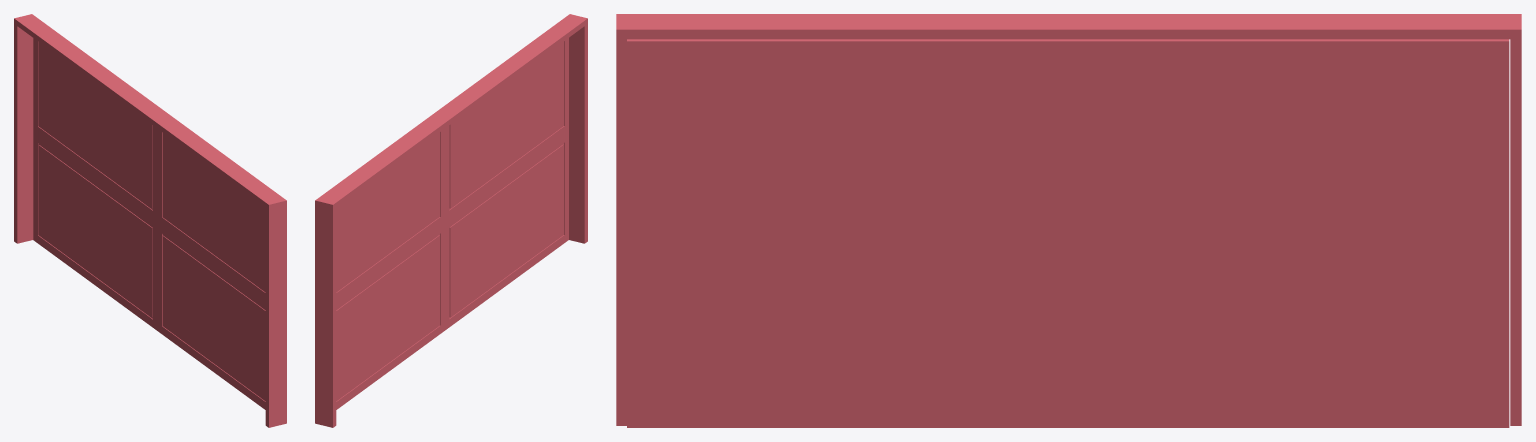
Rendered from 닫힌문.fbx.
The picture shows the model from 3 angles, left to right: view 1: azimuth 30°, elevation 25°; view 2: azimuth 150°, elevation 25°; view 3: azimuth 270°, elevation 25°; orthographic projection. The views are drawn at different scales.
Visible parts, largest first — view 1: Cube.068, Cube.004, Cube.046; view 2: Cube.004, Cube.068, Cube.046; view 3: Cube.068, Cube.004, Cube.046.
Boxes of the visible parts, bbox=[...] form: Cube.068: bbox=[33, 38, 157, 330]; Cube.004: bbox=[157, 129, 265, 409]; Cube.046: bbox=[14, 14, 286, 427]; Cube.004: bbox=[445, 38, 568, 330]; Cube.068: bbox=[336, 128, 444, 409]; Cube.046: bbox=[315, 14, 587, 427]; Cube.068: bbox=[1068, 39, 1509, 427]; Cube.004: bbox=[627, 39, 1068, 427]; Cube.046: bbox=[616, 14, 1521, 425].
Size of the model in its own units: 49.04 by 516 by 1069.
